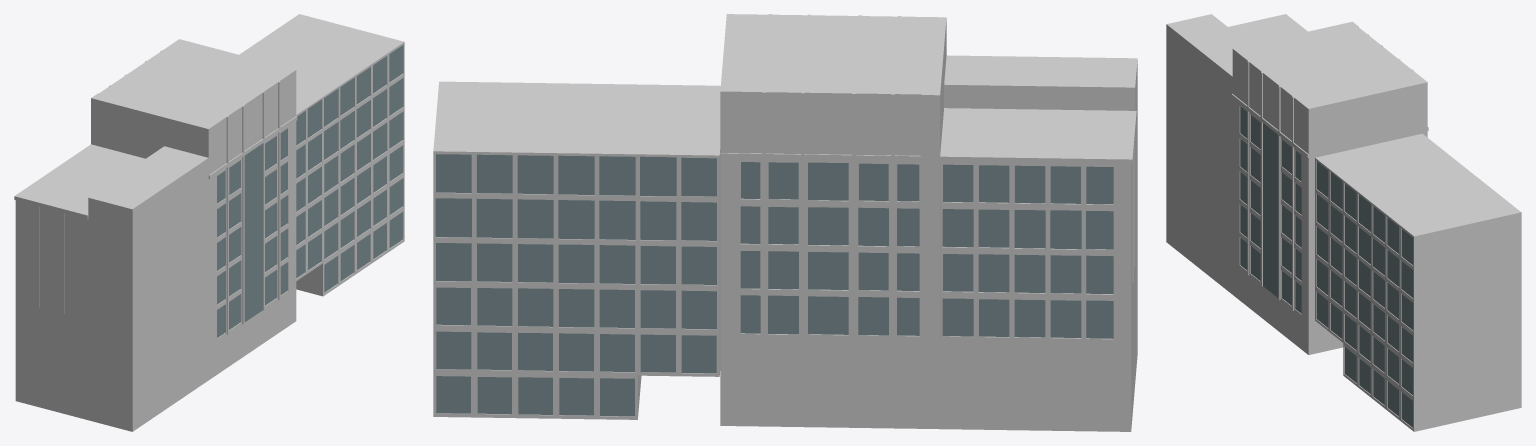
Rendered from physics_box2 1.fbx.
3 renders of one model, left to right at view 1: azimuth 30°, elevation 25°; view 2: azimuth 150°, elevation 25°; view 3: azimuth 270°, elevation 25°, orthographic. The views are drawn at different scales.
Visible parts, largest first — view 1: physics_building:pCube115, physics_building:pCube116; view 2: physics_building:pCube115, physics_building:pCube116; view 3: physics_building:pCube115, physics_building:pCube116.
Boxes of the visible parts, box(x1,y1,x2,y2) form: physics_building:pCube115: box(14, 39, 297, 431); physics_building:pCube116: box(239, 14, 404, 296); physics_building:pCube115: box(720, 14, 1137, 431); physics_building:pCube116: box(433, 81, 720, 419); physics_building:pCube115: box(1166, 14, 1428, 354); physics_building:pCube116: box(1315, 133, 1521, 431).
Bounding box in the file's own units: 137 × 72.1 × 94.22.
